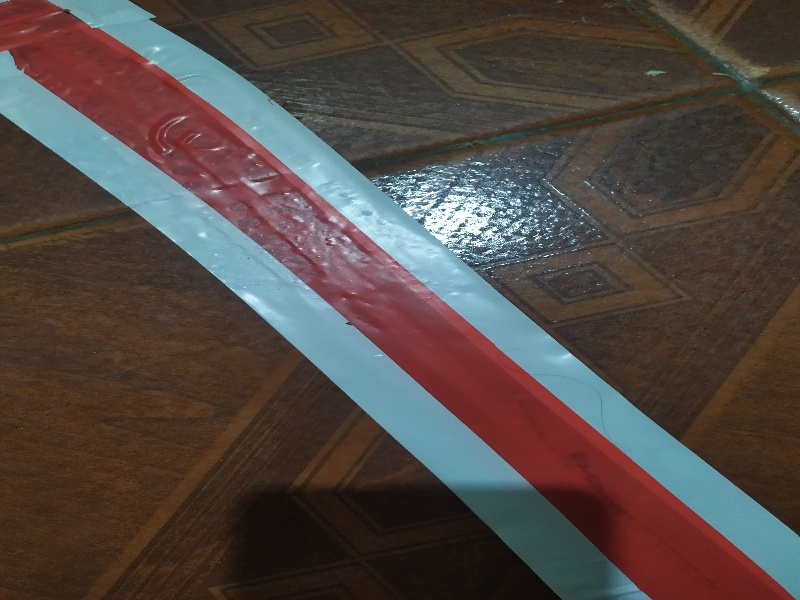saindoDireita: (2, 1, 799, 597)
